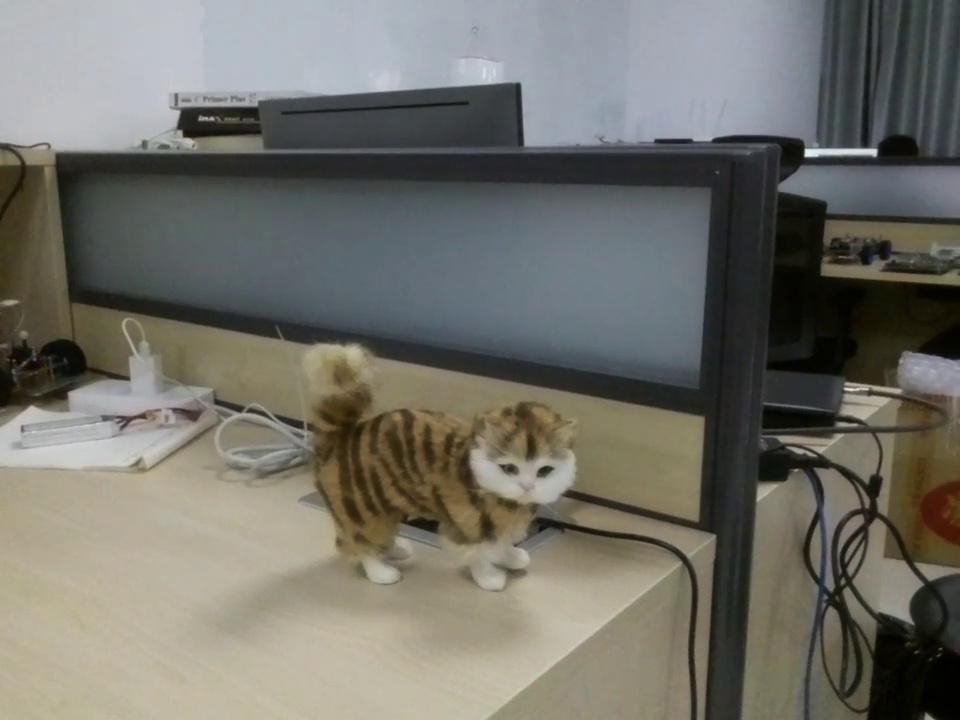cat: (294, 332, 589, 606)
